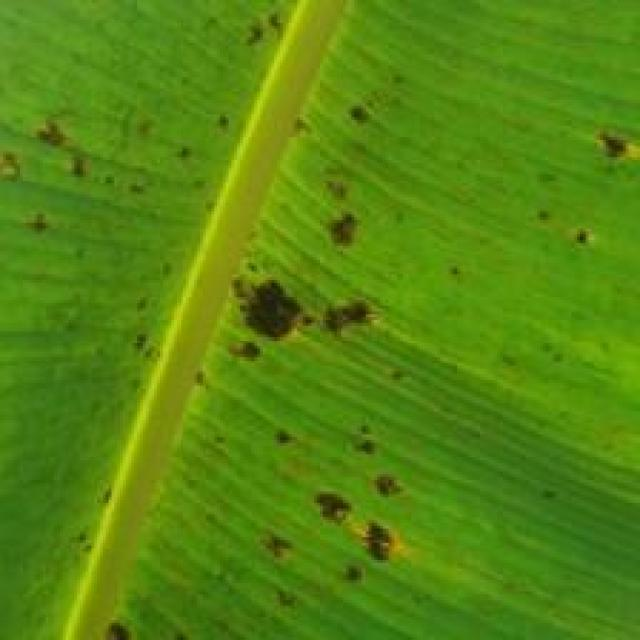Downey_mildrew: (164, 1, 459, 608), (0, 96, 150, 246), (525, 114, 640, 274), (61, 577, 268, 640)
